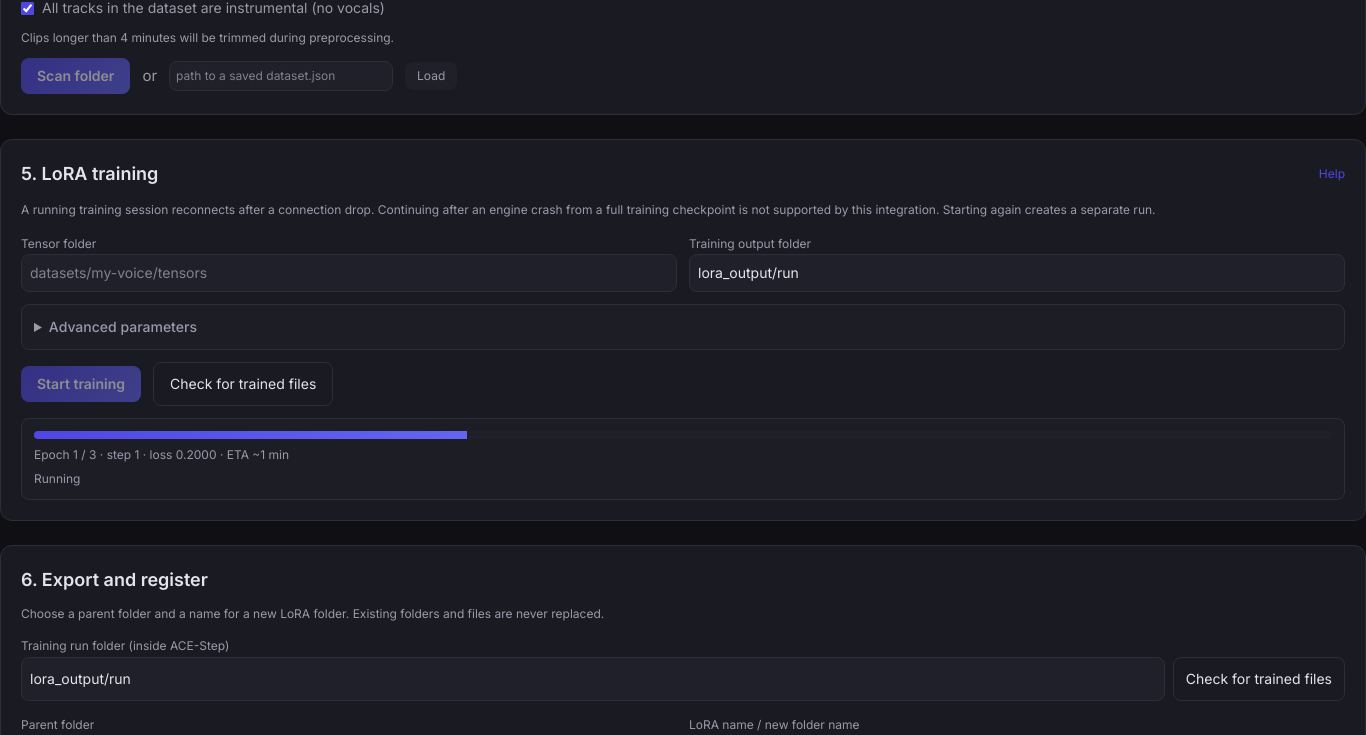
distinguishes a saved checkpoint from a final adapter and an empty training folder
(page scrolled)
Click the button "Check for trained files" below "Advanced parameters" at (243, 384), box [153,362,333,406]
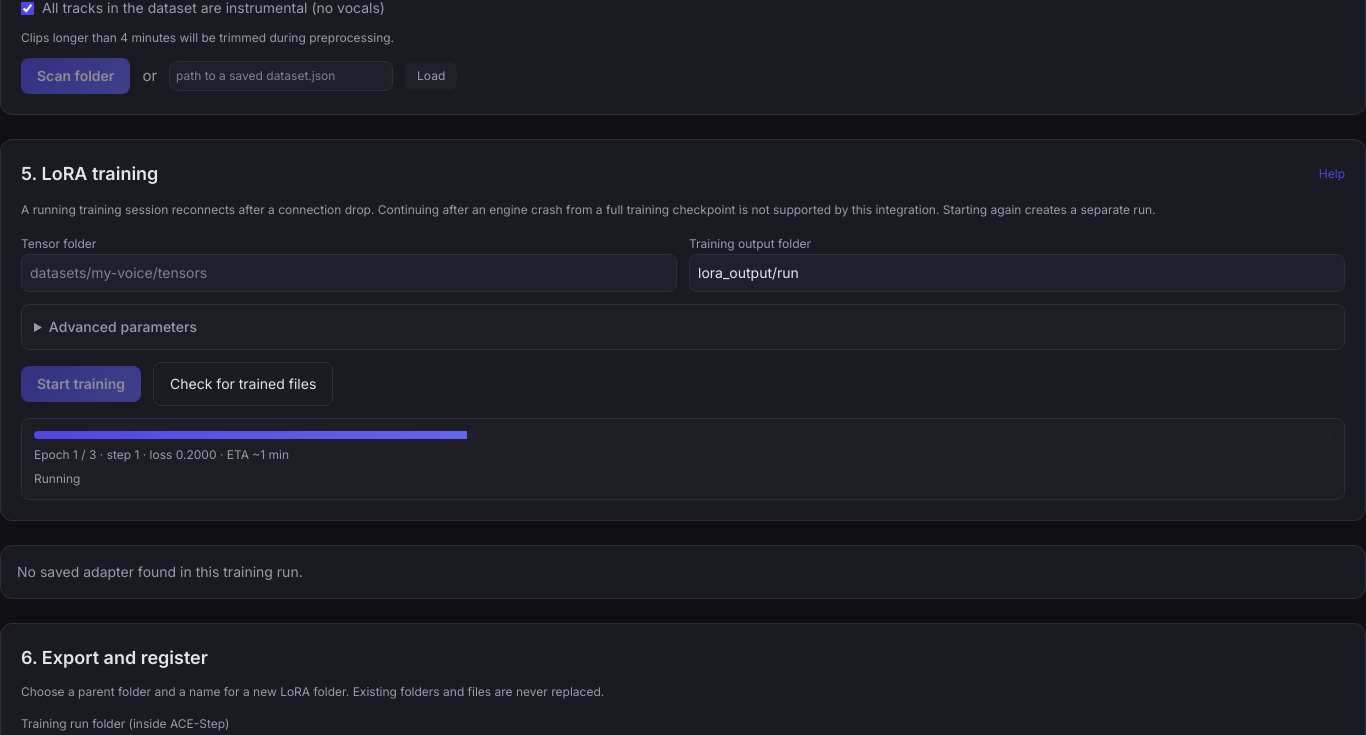
expect the element showing "No saved adapter found in this training run." is shown: met, box [17,563,303,580]
Click the button "Check for trained files" below "Advanced parameters" at (243, 384), box [153,362,333,406]
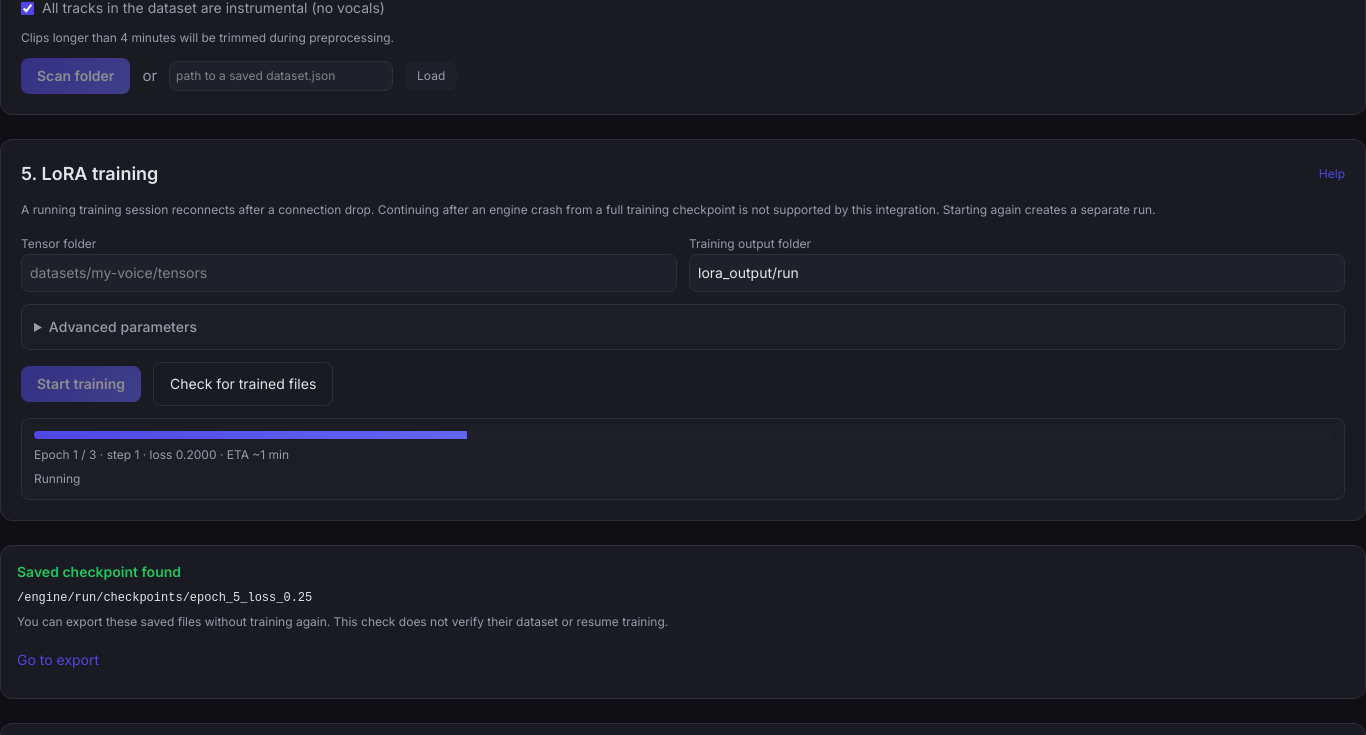
expect the element that starts with "Saved checkpoint found" is shown: met, box [17,563,181,580]
expect the element that starts with "Saved checkpoint found" shows "epoch_5_loss_0.25": met, box [17,591,312,605]
